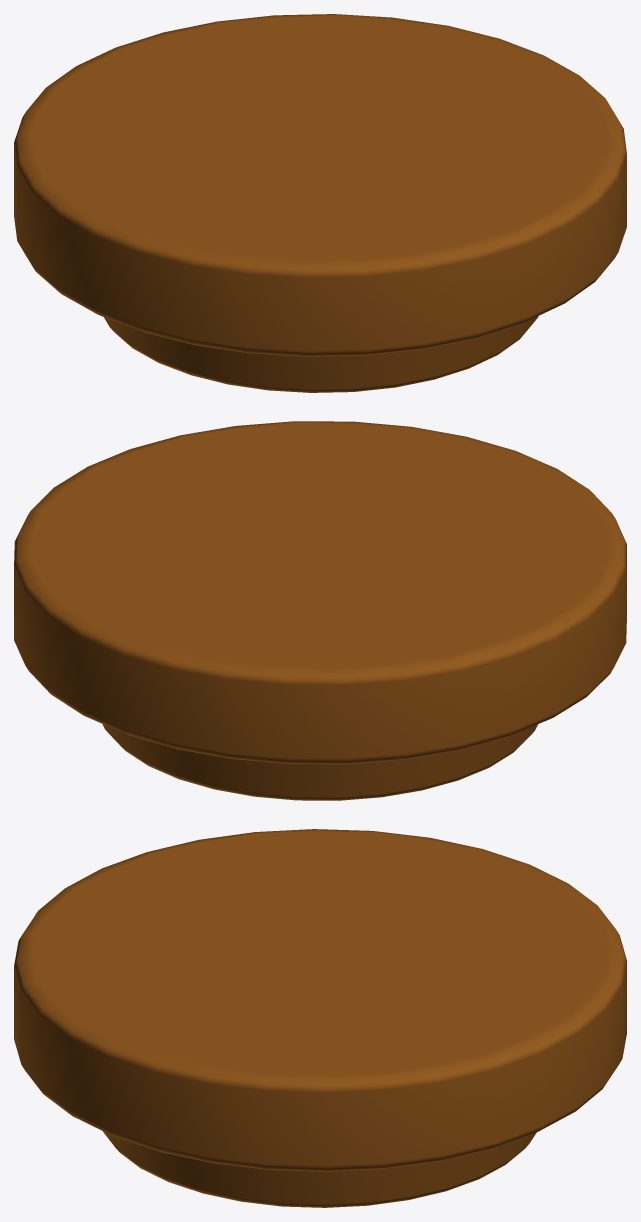
Rendered from SM_jar_lid.fbx.
3 renders of one model, top to bottom at view 1: azimuth 30°, elevation 25°; view 2: azimuth 150°, elevation 25°; view 3: azimuth 270°, elevation 25°, orthographic.
Visible parts, largest first — view 1: SM_jar_lid; view 2: SM_jar_lid; view 3: SM_jar_lid.
Part boxes in pixels (left/top/right/bottom): SM_jar_lid: left=14, top=14, right=626, bottom=392; SM_jar_lid: left=14, top=421, right=626, bottom=800; SM_jar_lid: left=14, top=829, right=626, bottom=1207.
Bounding box in the file's own units: 16.89 × 5.03 × 16.89.
Materials: 1 (1 with a texture image).
